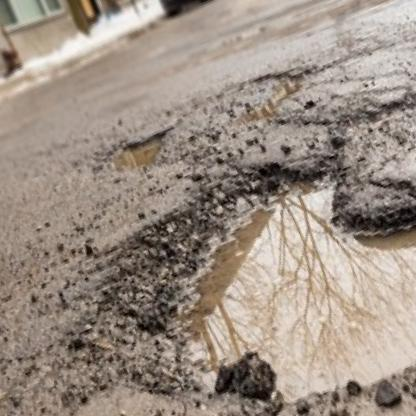pothole: (107, 97, 416, 416), (232, 57, 319, 128), (100, 123, 174, 185)
